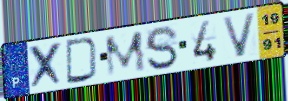4: (191, 19, 219, 63)
D: (64, 36, 101, 85)
M: (103, 28, 148, 79)
S: (144, 25, 181, 71)
V: (220, 12, 258, 60)
X: (28, 39, 66, 92)
